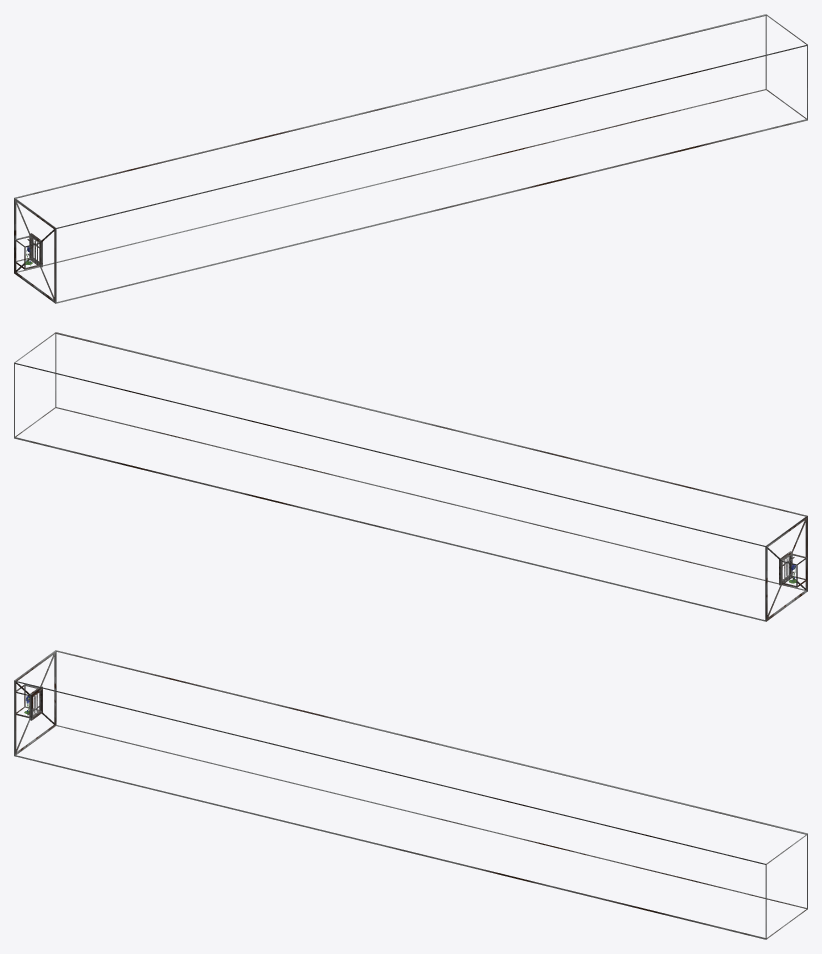
Rendered from hallway.glb.
The picture shows the model from 3 angles, top to bottom: view 1: azimuth 30°, elevation 25°; view 2: azimuth 150°, elevation 25°; view 3: azimuth 330°, elevation 25°; orthographic projection.
Visible parts, largest first — view 1: Cube; view 2: Cube; view 3: Cube.
Boxes of the visible parts, box(x1,y1,x2,y2) form: Cube: box(14, 14, 807, 303); Cube: box(14, 332, 807, 621); Cube: box(14, 650, 807, 939).
Bounding box in the file's own units: 21.5 × 2.03 × 2.03.
Materials: 6 (1 with a texture image).
